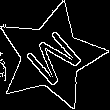M_SE: (16, 23, 85, 90)
